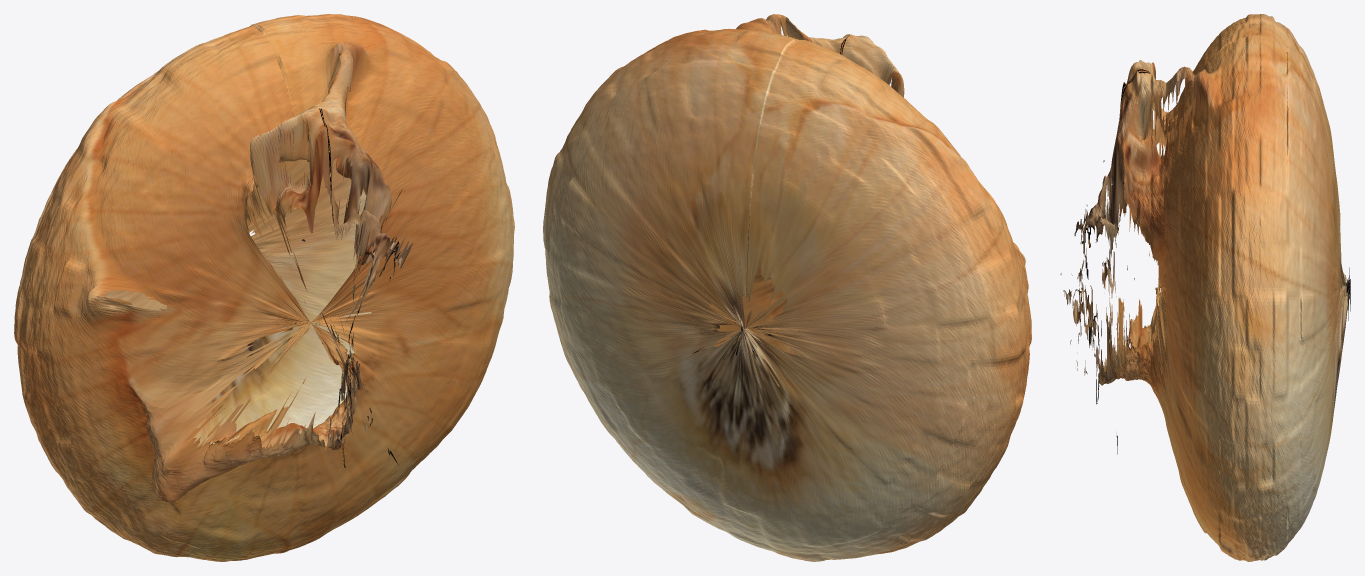
The picture shows the model from 3 angles, left to right: view 1: azimuth 30°, elevation 25°; view 2: azimuth 150°, elevation 25°; view 3: azimuth 270°, elevation 25°; orthographic projection. The views are drawn at different scales.
Parts seen in each view (by area): view 1: geometry_0; view 2: geometry_0; view 3: geometry_0.
Boxes of the visible parts, left/top/right/bottom form: geometry_0: left=14, top=14, right=514, bottom=561; geometry_0: left=543, top=14, right=1031, bottom=561; geometry_0: left=1060, top=14, right=1350, bottom=561.
Bounding box in the file's own units: 1.87 × 1.93 × 1.01.
Materials: 1 (1 with a texture image).
